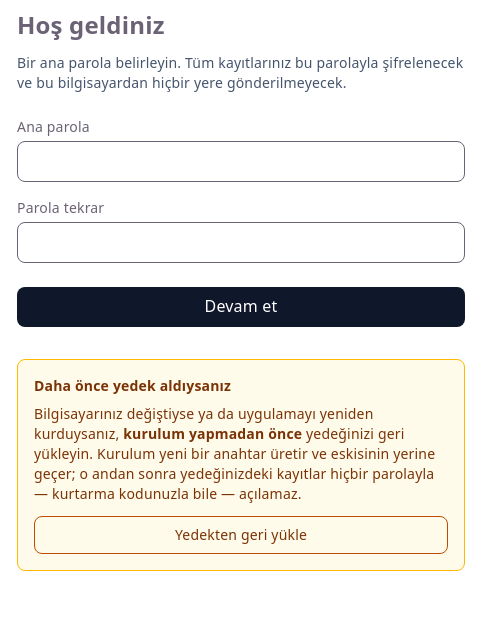
it: KurulumSihirbazi › kisa parolayi reddeder ve sunucuya gitmez
This screenshot has width=483, height=620.
Step 1. Type "kisa" into the password field labelled "Ana parola" → (241,162), box x1=17 y1=141 x2=465 y2=182
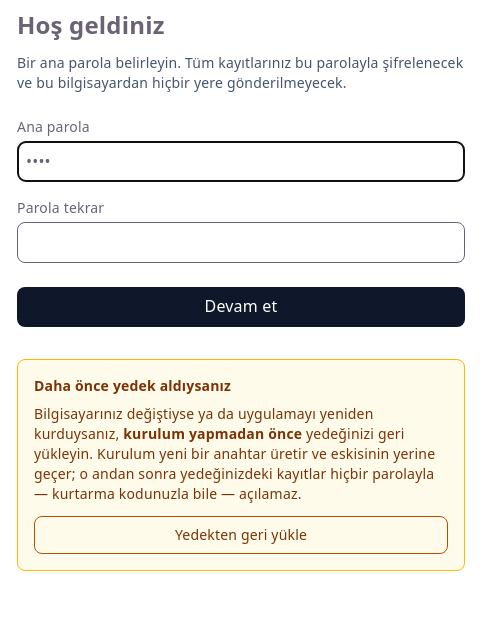
Step 2. Type "kisa" into the password field labelled "Parola tekrar" → (241,243), box x1=17 y1=222 x2=465 y2=263
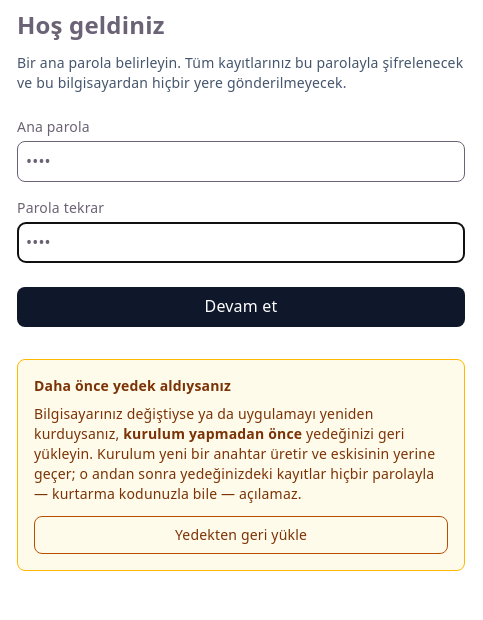
Step 3. Click the button "Devam et" → (241,307), box x1=17 y1=287 x2=465 y2=327
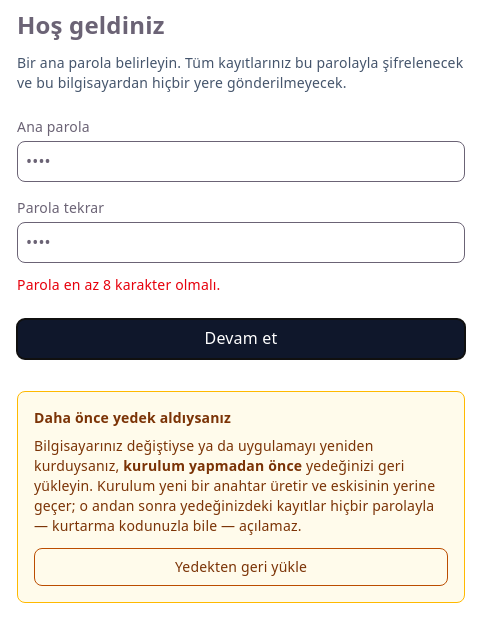
Check: the text "Parola en az 8 karakter olmalı." is shown, box x1=17 y1=275 x2=220 y2=294
